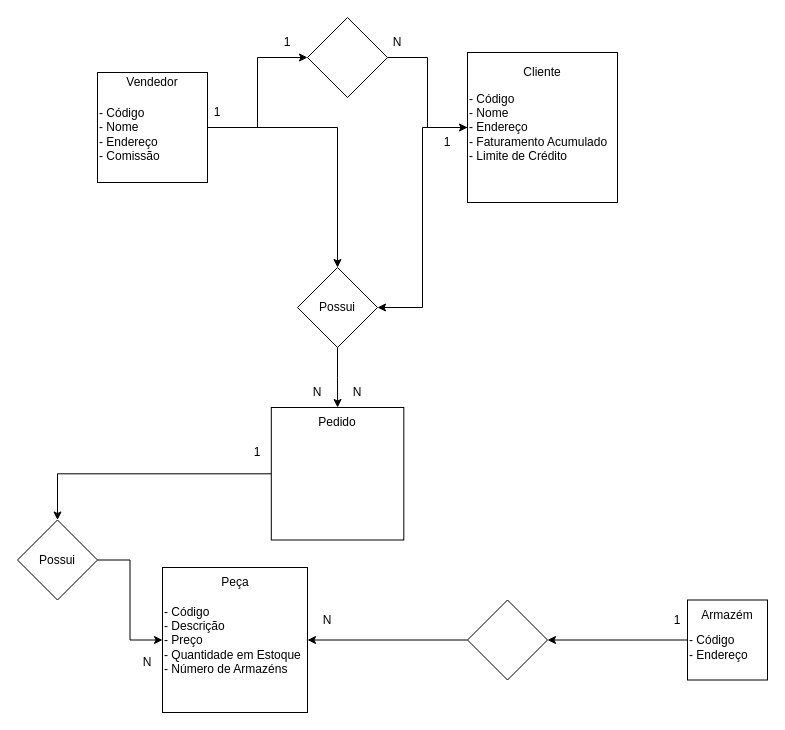
This 785x730 diagram has some shape labels left out. Each missing label, with the box of its shape:
- Número - Data - Quantidade de Peças - Preço Cotado: (270, 406, 404, 540)
Atende: (306, 16, 388, 98)
Estoca: (466, 599, 548, 680)
